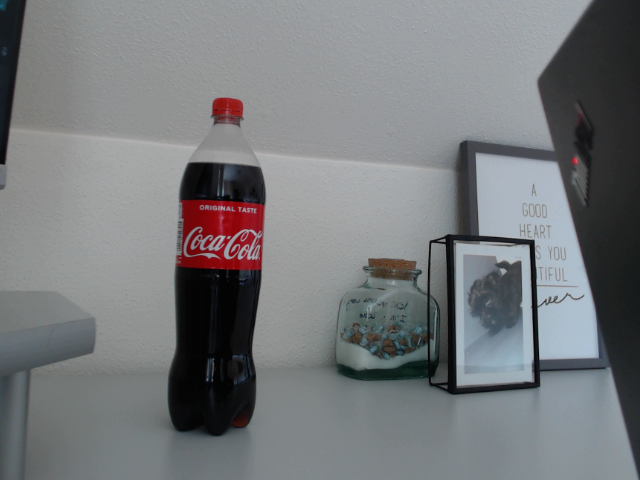bottle: (168, 98, 266, 437)
